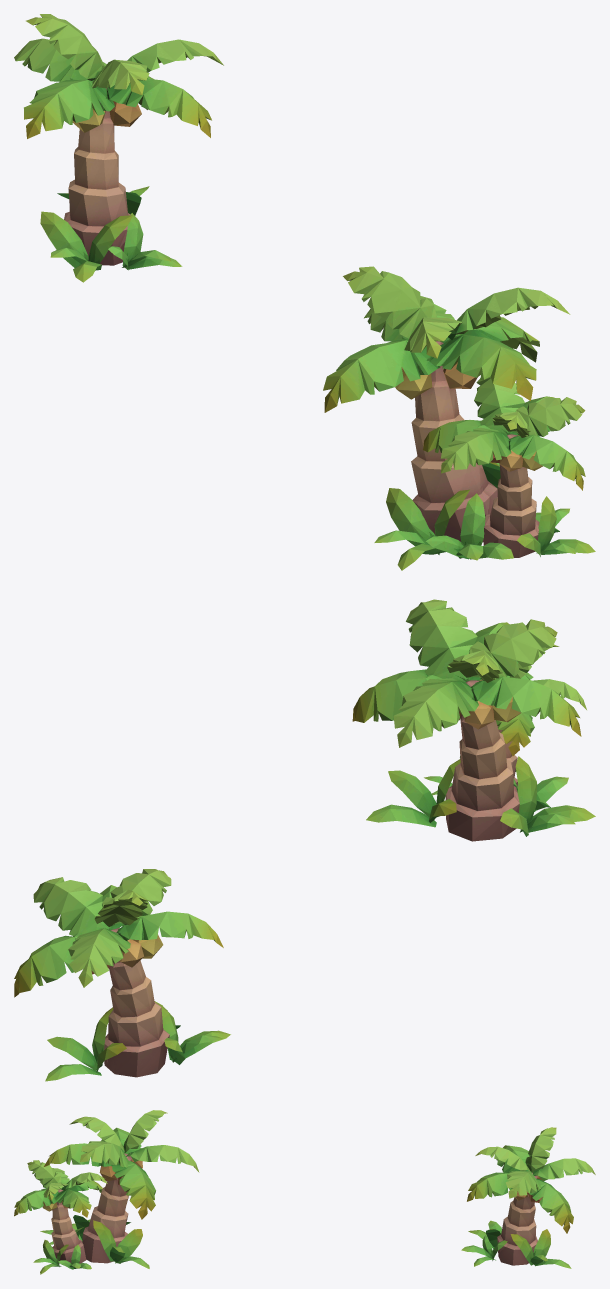
The model's file is Props.fbx.
3 views of the same model, one above another, from view 1: azimuth 30°, elevation 25°; view 2: azimuth 150°, elevation 25°; view 3: azimuth 270°, elevation 25° (orthographic). The views are drawn at different scales.
Visible parts, largest first — view 1: yezishu01, yezishu02; view 2: yezishu01, yezishu02; view 3: yezishu01, yezishu02.
Part boxes in pixels (<box>): yezishu01: <box>323,266,595,570</box>; yezishu02: <box>14,14,223,282</box>; yezishu01: <box>352,599,595,841</box>; yezishu02: <box>14,869,230,1081</box>; yezishu01: <box>14,1110,199,1274</box>; yezishu02: <box>461,1127,595,1268</box>.
Bounding box in the file's own units: 9.08 × 8.33 × 32.45.
